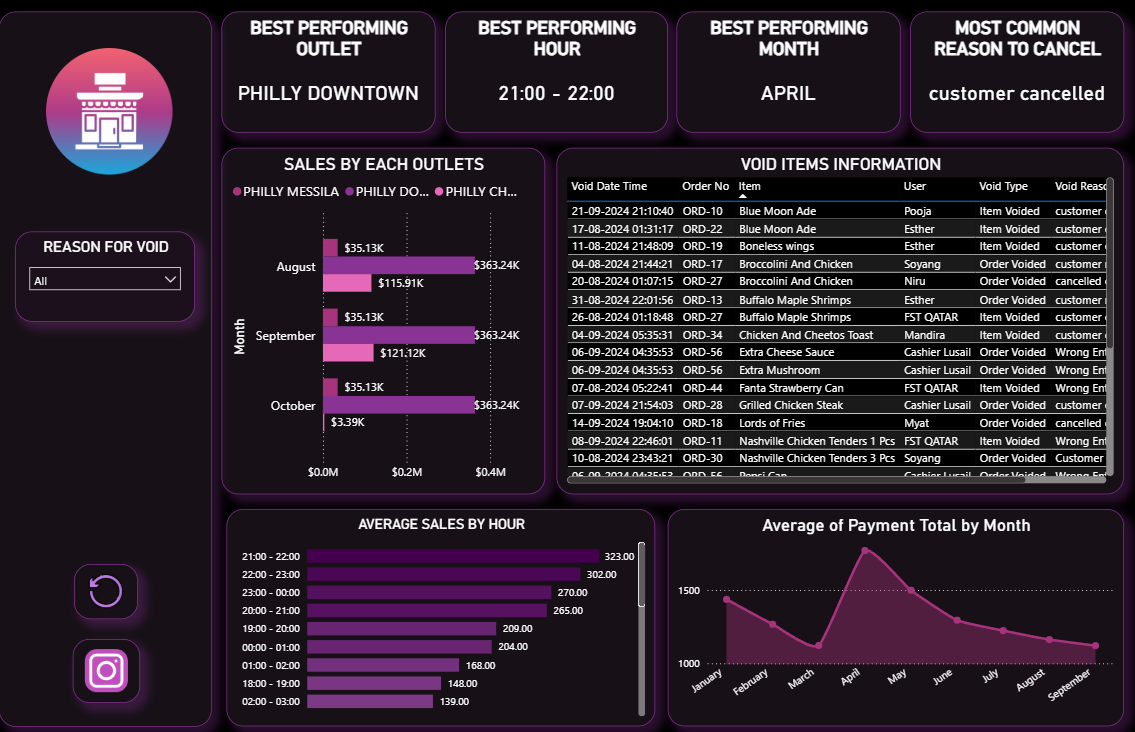

The dashboard page shown, as its layout file describes it:
{"tool":"powerbi","page":{"name":"Page 3","canvas":[1350,875],"ordinal":2},"visuals":[{"type":"card","title":"BEST PERFORMING OUTLET","fields":{"Values":["Sales Summary philly downtown.best outlet"]},"box":[264.5,14.9,254.1,144.1],"z":0},{"type":"card","title":"BEST PERFORMING HOUR","fields":{"Values":["Max(Hourly Sales.Description)"]},"box":[530.5,14.9,264.5,144.1],"z":1000},{"type":"card","title":"BEST PERFORMING MONTH","fields":{"Values":["Sales Summary philly downtown.name of month"]},"box":[805.5,14.9,266,144.1],"z":2000},{"type":"card","title":"MOST COMMON REASON TO CANCEL","fields":{"Values":["Min(Void Item.Void Reason)"]},"box":[1083.4,14.9,254.1,144.1],"z":3000},{"type":"barChart","title":"AVERAGE SALES BY HOUR","fields":{"Y":["Avg(Hourly Sales.Count)"],"Category":["Hourly Sales.Description"]},"box":[270.5,606.3,509.7,258.6],"z":4000},{"type":"stackedAreaChart","fields":{"Category":["Sales Summary.Date.Variation.Date Hierarchy.Month","Sales Summary.Date.Variation.Date Hierarchy.Day"],"Y":["Avg(Sales Summary.Payment Total)"]},"box":[795.1,606.3,542.4,258.6],"z":5000},{"type":"clusteredBarChart","title":"SALES BY EACH OUTLETS","fields":{"Category":["sale summary philly cheese stake cafe.Date.Variation.Date Hierarchy.Month"],"Y":["Sum(sales summary philly messila.Payment Total)","Sum(Sales Summary philly downtown.Payment Total)","Sum(sale summary philly cheese stake cafe.Payment Total)"]},"box":[264.5,176.8,384.9,411.6],"z":6000},{"type":"tableEx","title":"VOID ITEMS INFORMATION","fields":{"Values":["Void Item.Void Date Time","Void Item.Order No","Void Item.Item","Void Item.User","Void Item.Void Type","Void Item.Void Reason"]},"box":[662.8,176.8,674.7,411.6],"z":7000},{"type":"shape","box":[0,14.9,252.6,850],"z":8000},{"type":"image","box":[89.2,671.7,75.8,65.4],"z":9000},{"type":"image","box":[87.7,760.9,80.2,75.8],"z":10000},{"type":"slicer","title":"REASON FOR VOID","fields":{"Values":["Void Item.Void Reason"]},"box":[19.3,276.4,214,107],"z":11000},{"type":"image","box":[43.1,53.5,175.4,160.5],"z":12001}]}

Visuals, with their boxes in screenshot pixels (x1, y1, x2, y2), scaled from the page's 1350x875 canvas onto the 1135x732 screenshot:
"BEST PERFORMING OUTLET" card: left=222, top=12, right=436, bottom=133
"BEST PERFORMING HOUR" card: left=446, top=12, right=668, bottom=133
"BEST PERFORMING MONTH" card: left=677, top=12, right=901, bottom=133
"MOST COMMON REASON TO CANCEL" card: left=911, top=12, right=1124, bottom=133
"AVERAGE SALES BY HOUR" barChart: left=227, top=507, right=656, bottom=724
stackedAreaChart - Sales Summary.Date.Variation.Date Hierarchy.Month x Sales Summary.Date.Variation.Date Hierarchy.Day: left=668, top=507, right=1124, bottom=724
"SALES BY EACH OUTLETS" clusteredBarChart: left=222, top=148, right=546, bottom=492
"VOID ITEMS INFORMATION" tableEx: left=557, top=148, right=1124, bottom=492
shape: left=0, top=12, right=212, bottom=724
image: left=75, top=562, right=139, bottom=617
image: left=74, top=637, right=141, bottom=700
"REASON FOR VOID" slicer: left=16, top=231, right=196, bottom=321
image: left=36, top=45, right=184, bottom=179
